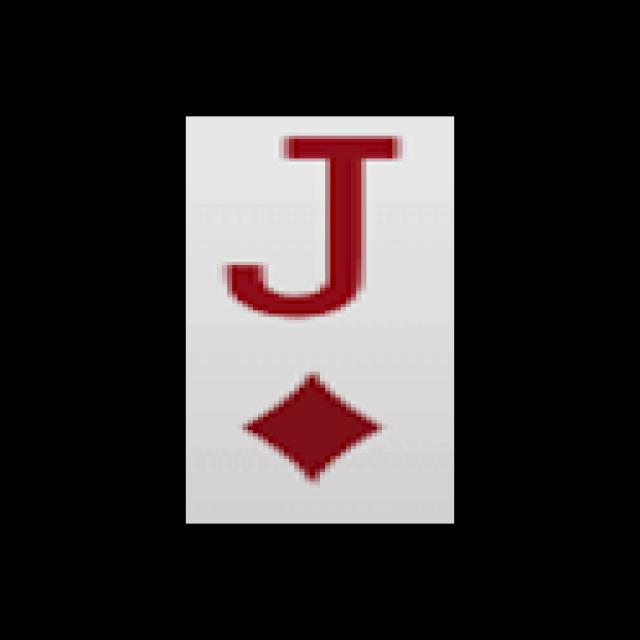JD: (200, 124, 430, 500)
